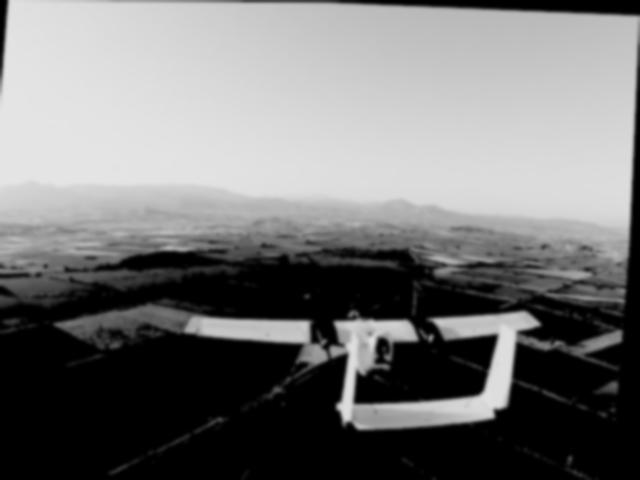hedef: (174, 261, 564, 448)
